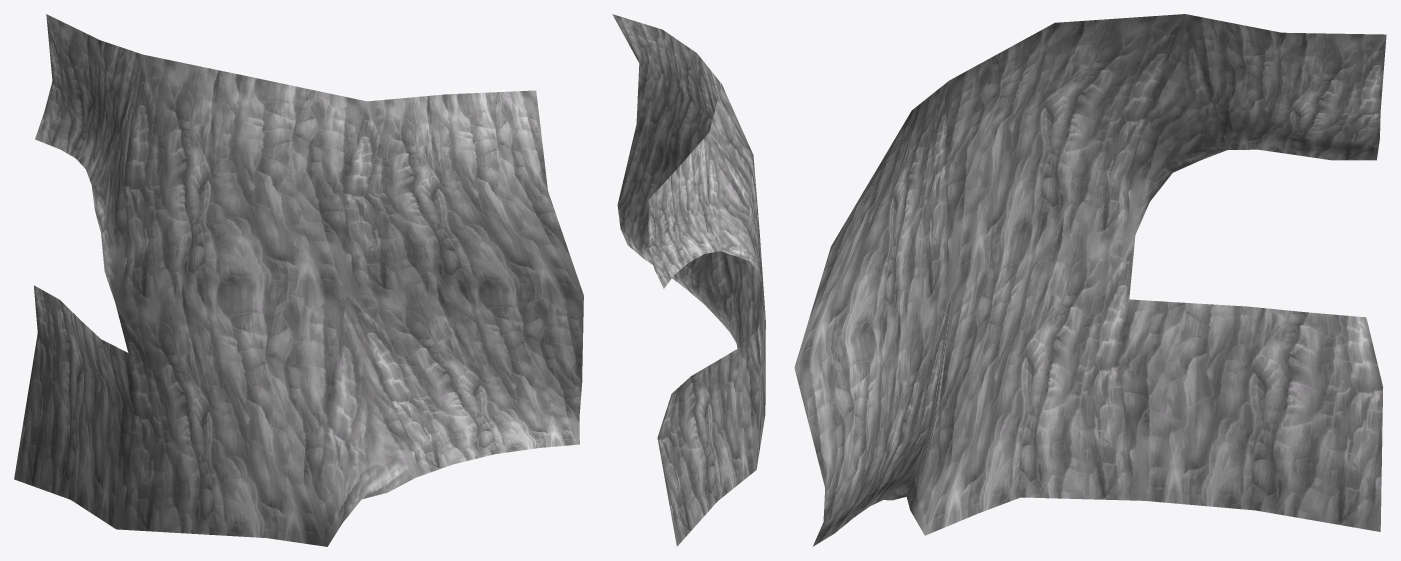
The model's file is SWORDLIGHT20_PS-AREA03_189.fbx.
3 views of the same model, side by side, from view 1: azimuth 30°, elevation 25°; view 2: azimuth 150°, elevation 25°; view 3: azimuth 270°, elevation 25° (orthographic). The views are drawn at different scales.
Parts seen in each view (by area): view 1: SWORDLIGHT20_PS-AREA03_189; view 2: SWORDLIGHT20_PS-AREA03_189; view 3: SWORDLIGHT20_PS-AREA03_189.
Boxes of the visible parts, left/top/right/bottom form: SWORDLIGHT20_PS-AREA03_189: left=14, top=14, right=583, bottom=546; SWORDLIGHT20_PS-AREA03_189: left=612, top=14, right=765, bottom=546; SWORDLIGHT20_PS-AREA03_189: left=794, top=14, right=1386, bottom=546.
Size of the model in its own units: 134764 by 188203 by 181796.
2 materials, 2 textured.
